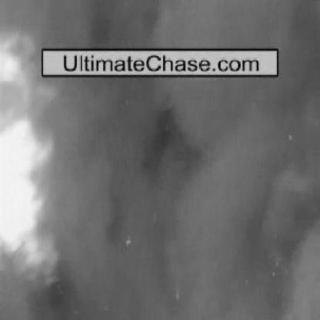Smoke: (74, 81, 314, 311), (172, 2, 316, 44)
